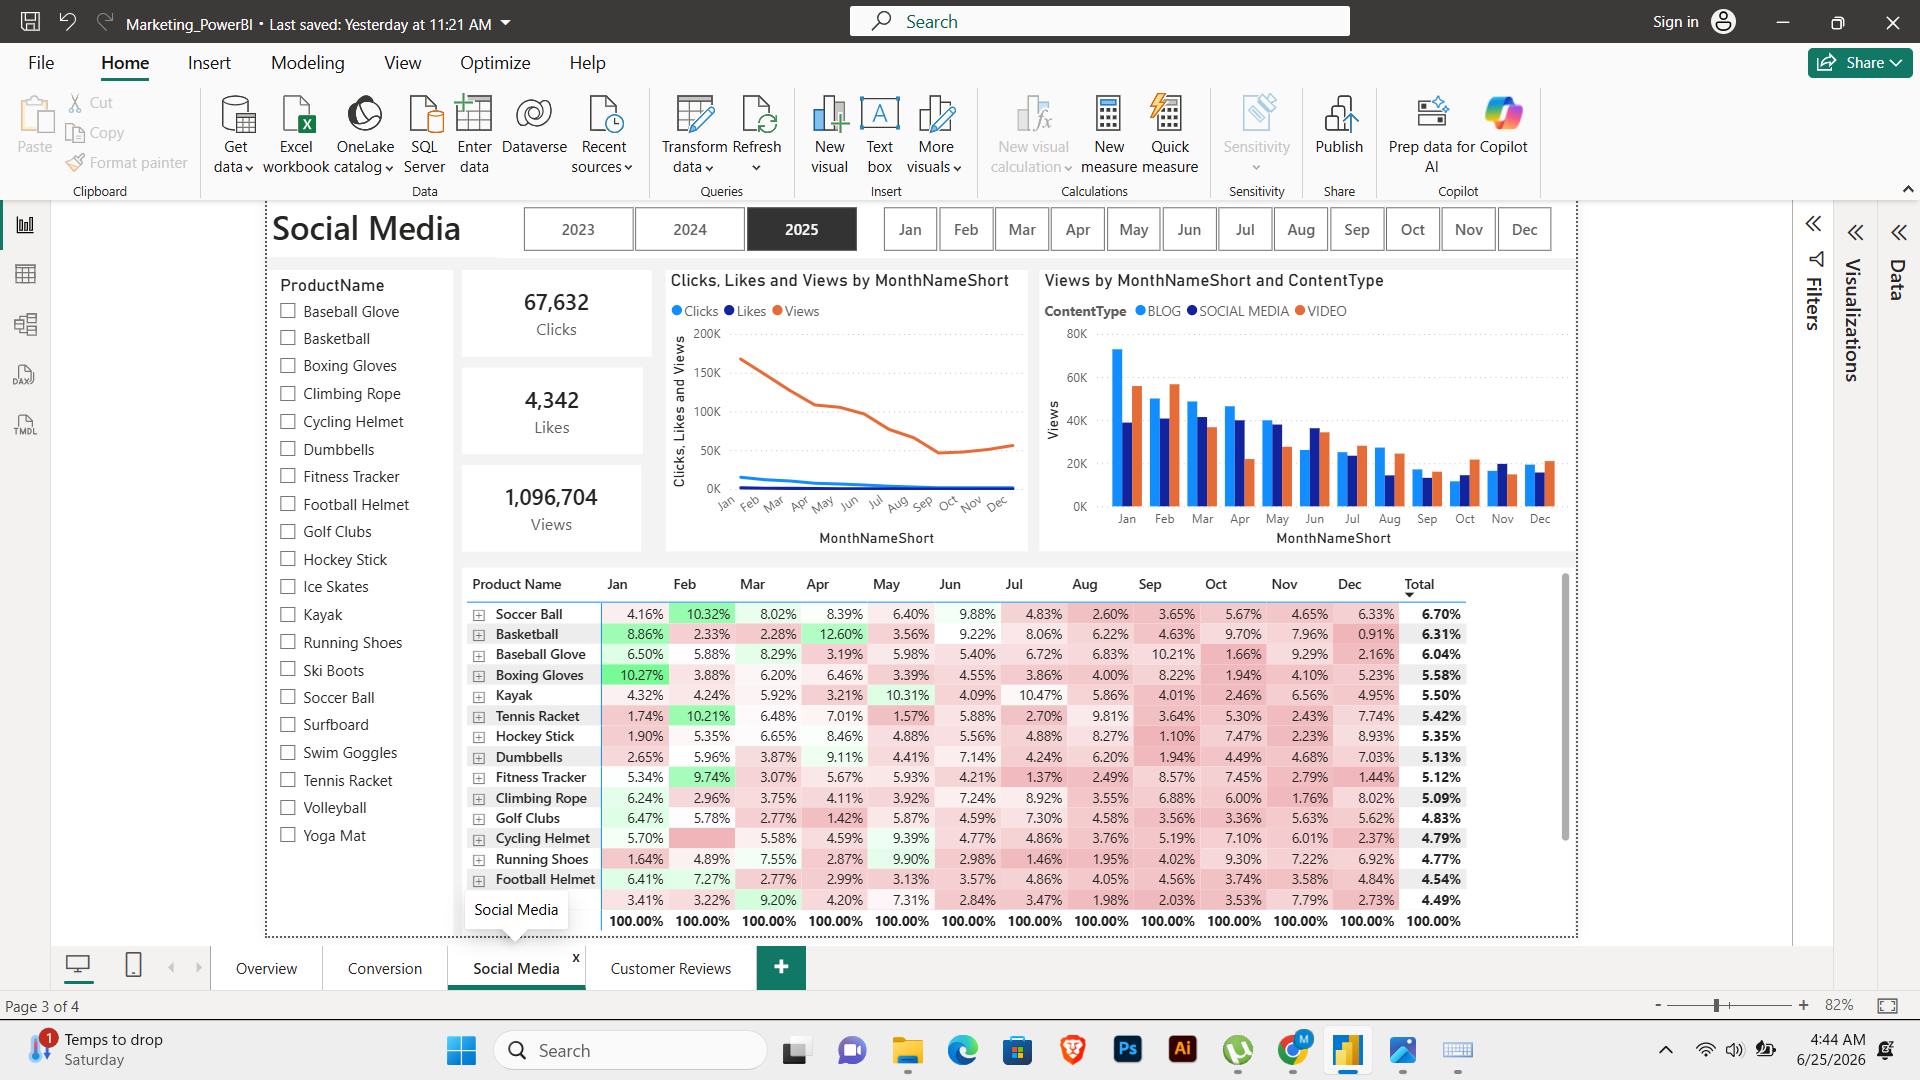

The page's visual inventory and layout, read from the dashboard file:
{"tool":"powerbi","page":{"name":"Social Media","canvas":[1280,720],"ordinal":2},"visuals":[{"type":"textbox","box":[0,0,1280.3,56.3],"z":0},{"type":"slicer","fields":{"Values":["dim_products.ProductName"]},"box":[0,68.5,182.2,651.8],"z":1000},{"type":"slicer","fields":{"Values":["Calendar.Year"]},"box":[225.1,0,376,56.6],"z":2000},{"type":"slicer","fields":{"Values":["Calendar.MonthNameShort"]},"box":[576.8,0,703.5,56.6],"z":3000},{"type":"cardVisual","fields":{"Data":["_Calculations.Clicks"]},"box":[191.4,68.7,186,84.9],"z":4000},{"type":"cardVisual","fields":{"Data":["_Calculations.Likes"]},"box":[191.4,164.4,176.5,84.9],"z":5000},{"type":"cardVisual","fields":{"Data":["_Calculations.Views"]},"box":[191.4,258.8,175.2,84.9],"z":6000},{"type":"lineChart","fields":{"Category":["Calendar.MonthNameShort"],"Y":["_Calculations.Clicks","_Calculations.Likes","_Calculations.Views"]},"box":[389.5,68.7,354.4,274.9],"z":7000},{"type":"clusteredColumnChart","fields":{"Category":["Calendar.MonthNameShort"],"Y":["_Calculations.Views"],"Series":["fact_engagement_data.ContentType"]},"box":[756,68.7,524.2,274.9],"z":8000},{"type":"pivotTable","fields":{"Rows":["dim_products.ProductName","fact_engagement_data.ContentType"],"Columns":["Calendar.MonthNameShort"],"Values":["_Calculations.Views"]},"box":[191.4,359.8,1088.9,359.8],"z":9000}]}

Visuals, with their boxes on the page's 1280x720 design canvas (x1, y1, x2, y2). These are canvas units, not pixel positions in the 1920x1080 screenshot, which may show the page scaled, cropped or inside an application window:
textbox: detection(0, 0, 1280, 56)
slicer - dim_products.ProductName: detection(0, 68, 182, 720)
slicer - Calendar.Year: detection(225, 0, 601, 57)
slicer - Calendar.MonthNameShort: detection(577, 0, 1280, 57)
cardVisual - _Calculations.Clicks: detection(191, 69, 377, 154)
cardVisual - _Calculations.Likes: detection(191, 164, 368, 249)
cardVisual - _Calculations.Views: detection(191, 259, 367, 344)
lineChart - Calendar.MonthNameShort x _Calculations.Clicks: detection(390, 69, 744, 344)
clusteredColumnChart - Calendar.MonthNameShort x _Calculations.Views: detection(756, 69, 1280, 344)
pivotTable - dim_products.ProductName x fact_engagement_data.ContentType: detection(191, 360, 1280, 720)
